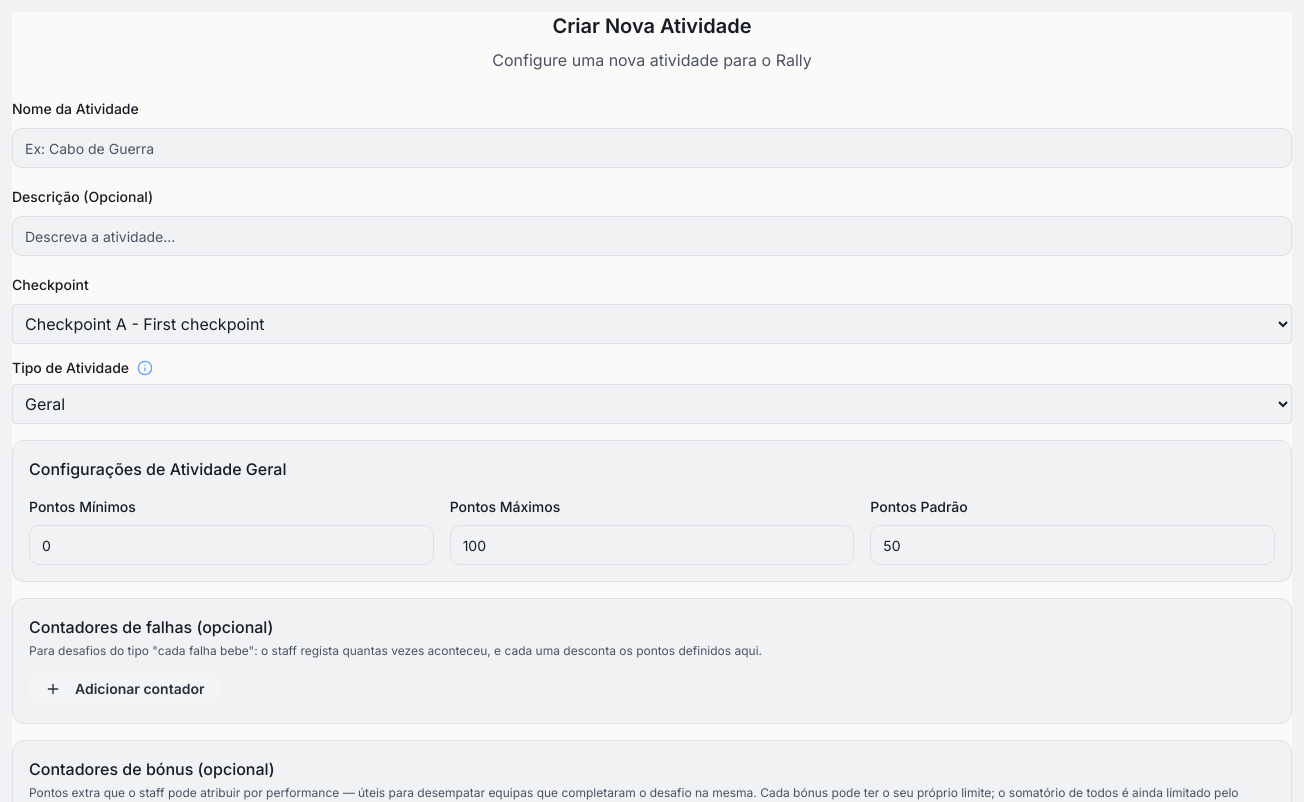
Test: ActivityCreateForm › updates configData via ActivityConfigFields when activity type changes to TIME_BASED
Note: Second select is activity_type
Step 1. Select "Baseada em Tempo" in the dropdown labelled "Tipo de Atividade" → (652, 404), box [12,384,1292,424]
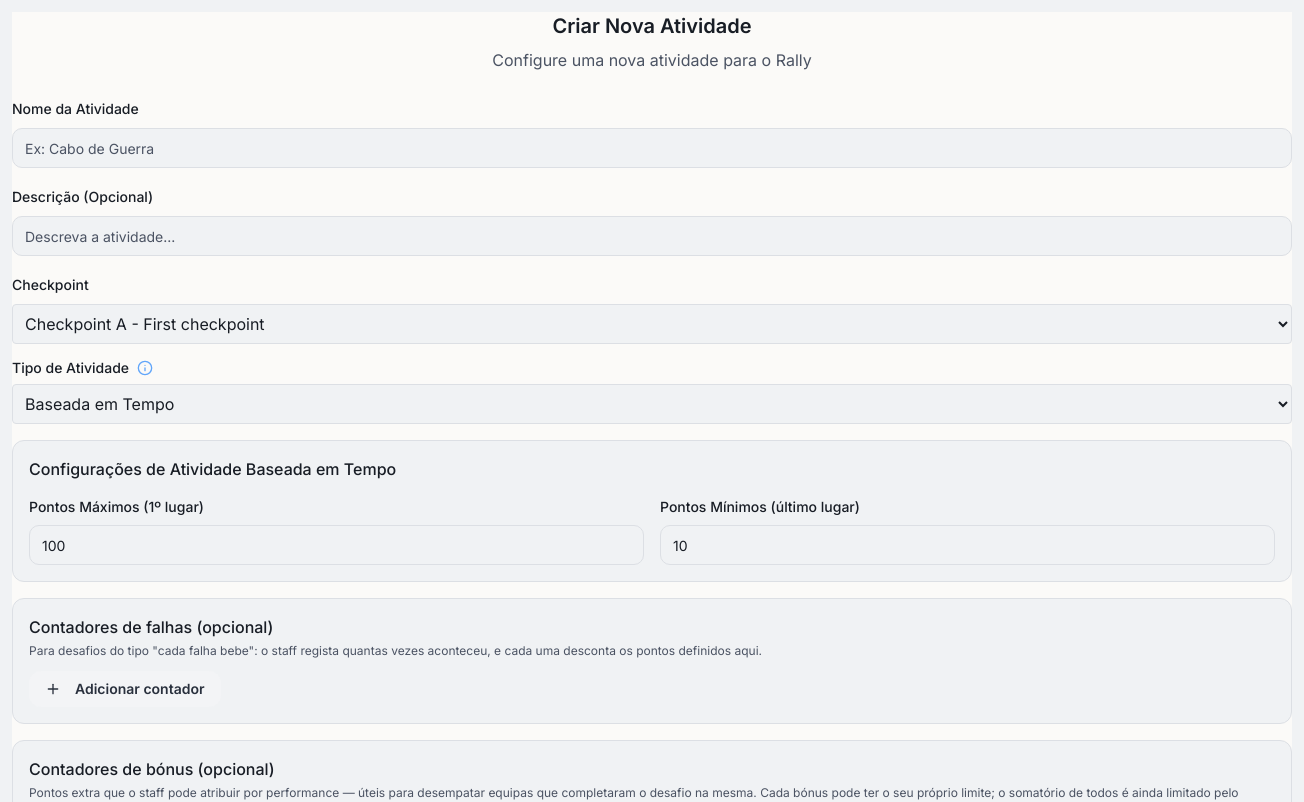
expect the heading "Configurações de Atividade Baseada em Tempo" is shown: met, box [29,459,396,479]
